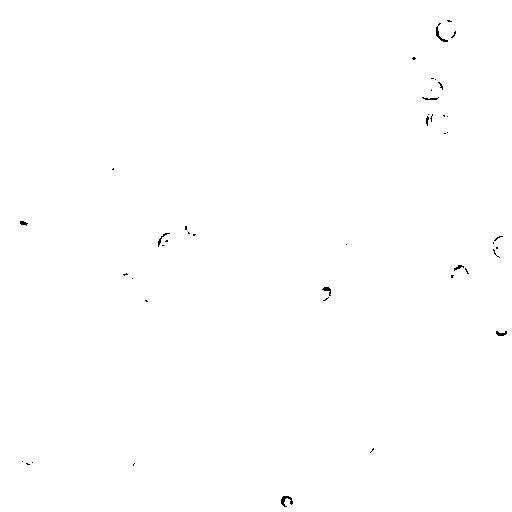micro-algae: (203, 53, 349, 208), (168, 60, 291, 189), (277, 50, 333, 111), (79, 253, 131, 303), (185, 461, 225, 505), (358, 337, 397, 377), (122, 363, 161, 399), (388, 280, 425, 317), (296, 461, 333, 493), (397, 39, 431, 73), (141, 243, 175, 275), (425, 106, 457, 137), (68, 134, 98, 166), (101, 156, 129, 189), (495, 285, 512, 333), (155, 231, 184, 259), (415, 75, 444, 102), (447, 259, 472, 290), (123, 342, 151, 367), (17, 441, 43, 467), (379, 253, 405, 279), (129, 457, 154, 484), (344, 289, 369, 314), (434, 18, 459, 42), (173, 82, 196, 106), (174, 490, 201, 510), (492, 233, 511, 261), (13, 207, 39, 227), (331, 354, 351, 380), (49, 0, 71, 22), (311, 281, 333, 303), (58, 19, 76, 40), (359, 436, 377, 457), (115, 225, 135, 243), (134, 285, 154, 303), (277, 491, 297, 509), (491, 320, 510, 338), (152, 341, 167, 361), (335, 239, 351, 257), (323, 254, 339, 271), (184, 221, 201, 236), (118, 272, 135, 287), (503, 473, 511, 490)
